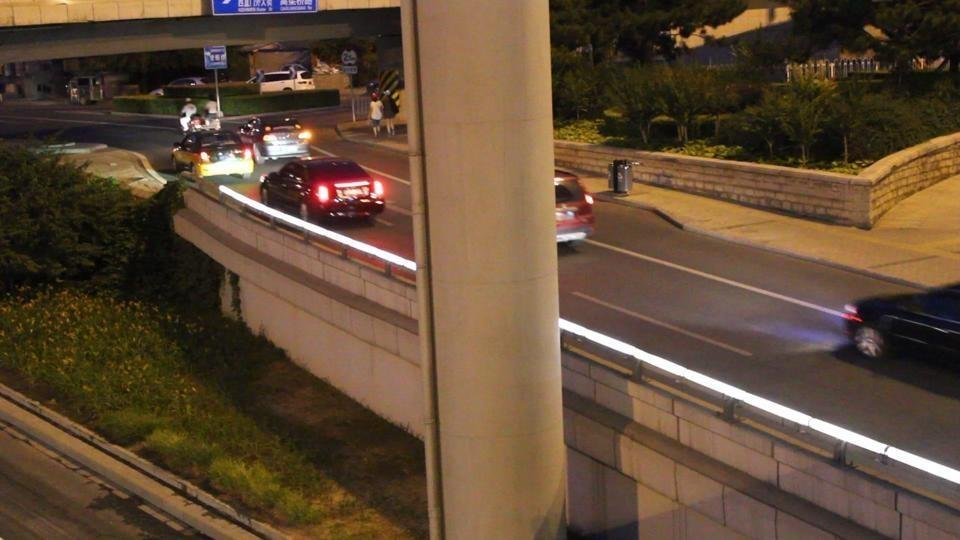car: (840, 283, 960, 367), (258, 156, 387, 225), (171, 130, 257, 181), (555, 174, 596, 251), (252, 121, 312, 162), (251, 68, 316, 95), (163, 76, 207, 91)
